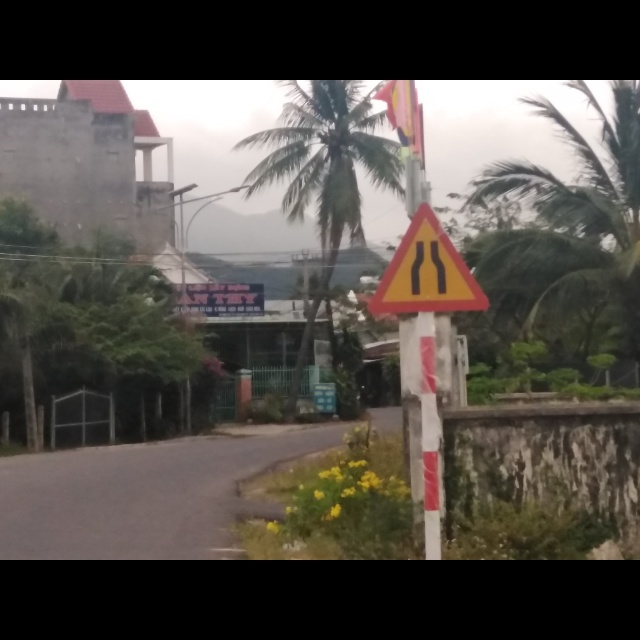Đường bị hẹp cả hai bên: (366, 200, 492, 312)
